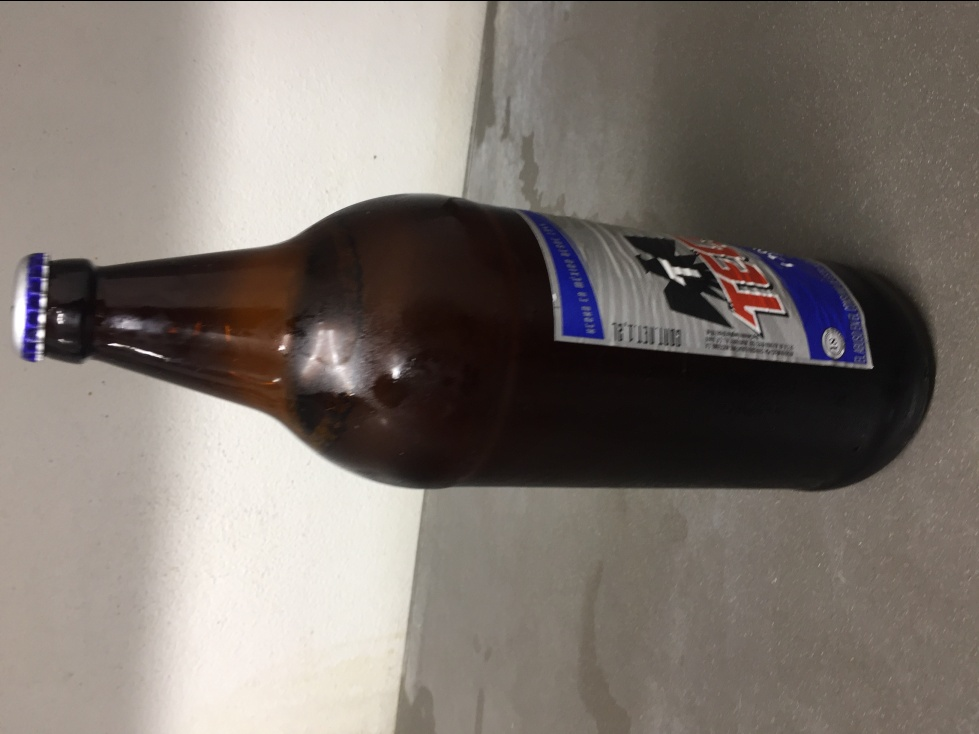tecateC: (12, 190, 942, 499)
